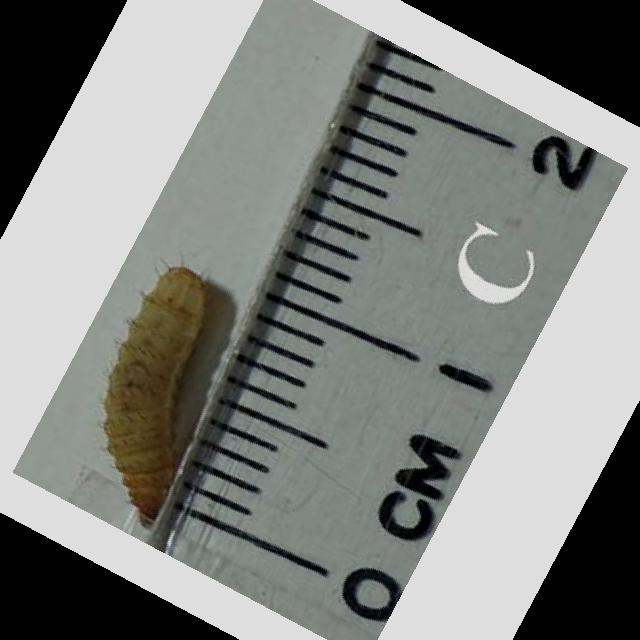Maggot: (101, 266, 212, 520)
